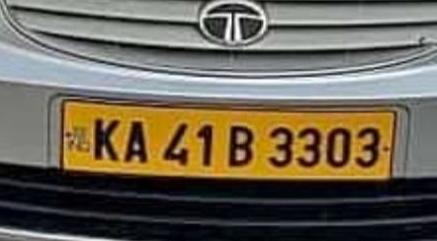0: (326, 121, 354, 172)
1: (195, 119, 216, 167)
3: (354, 122, 382, 172), (267, 122, 294, 169), (296, 125, 322, 172)
4: (157, 116, 193, 172)
A: (123, 115, 150, 166)
B: (224, 117, 255, 174)
K: (92, 112, 122, 166)
